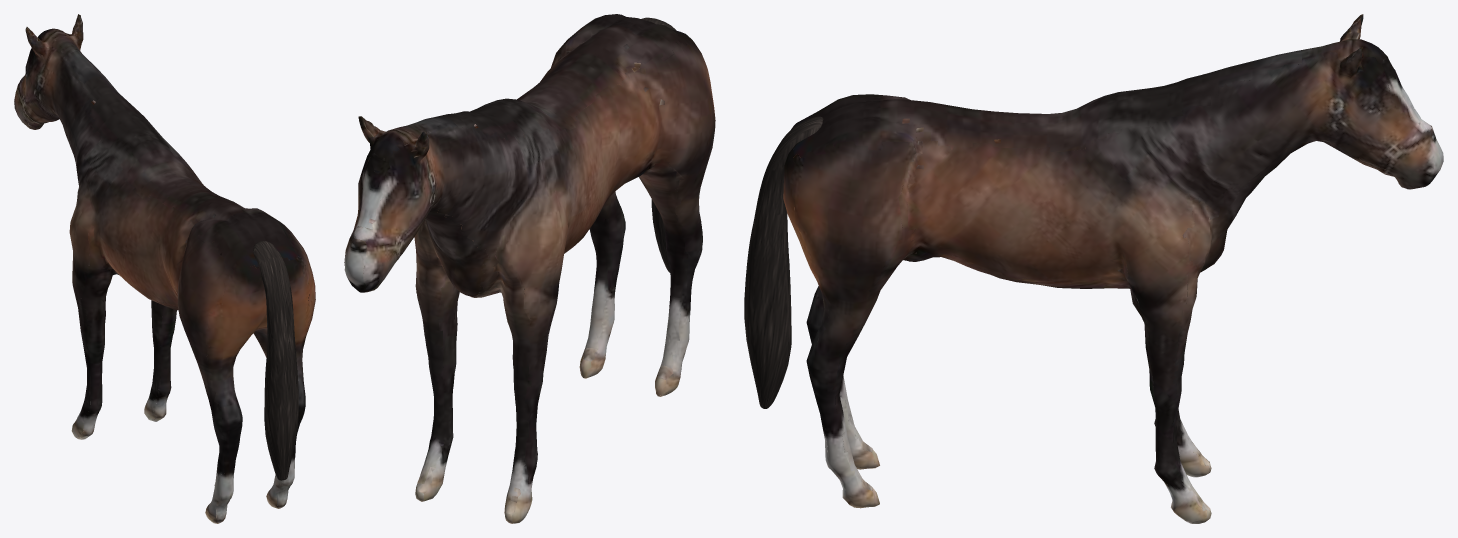
The model's file is horse.glb.
3 views of the same model, side by side, from view 1: azimuth 30°, elevation 25°; view 2: azimuth 150°, elevation 25°; view 3: azimuth 270°, elevation 25° (orthographic). The views are drawn at different scales.
Visible parts, largest first — view 1: horse, horse_tail; view 2: horse, horse_tail; view 3: horse, horse_tail.
Part boxes in pixels (box(x1,y1,x2,y2)): horse: box(14, 14, 315, 523); horse_tail: box(253, 241, 298, 480); horse: box(344, 14, 715, 523); horse_tail: box(641, 17, 677, 272); horse: box(783, 14, 1443, 523); horse_tail: box(744, 116, 823, 408).
Bounding box in the file's own units: 0.7635 × 2.1 × 2.83.
Materials: 2 (2 with a texture image).
